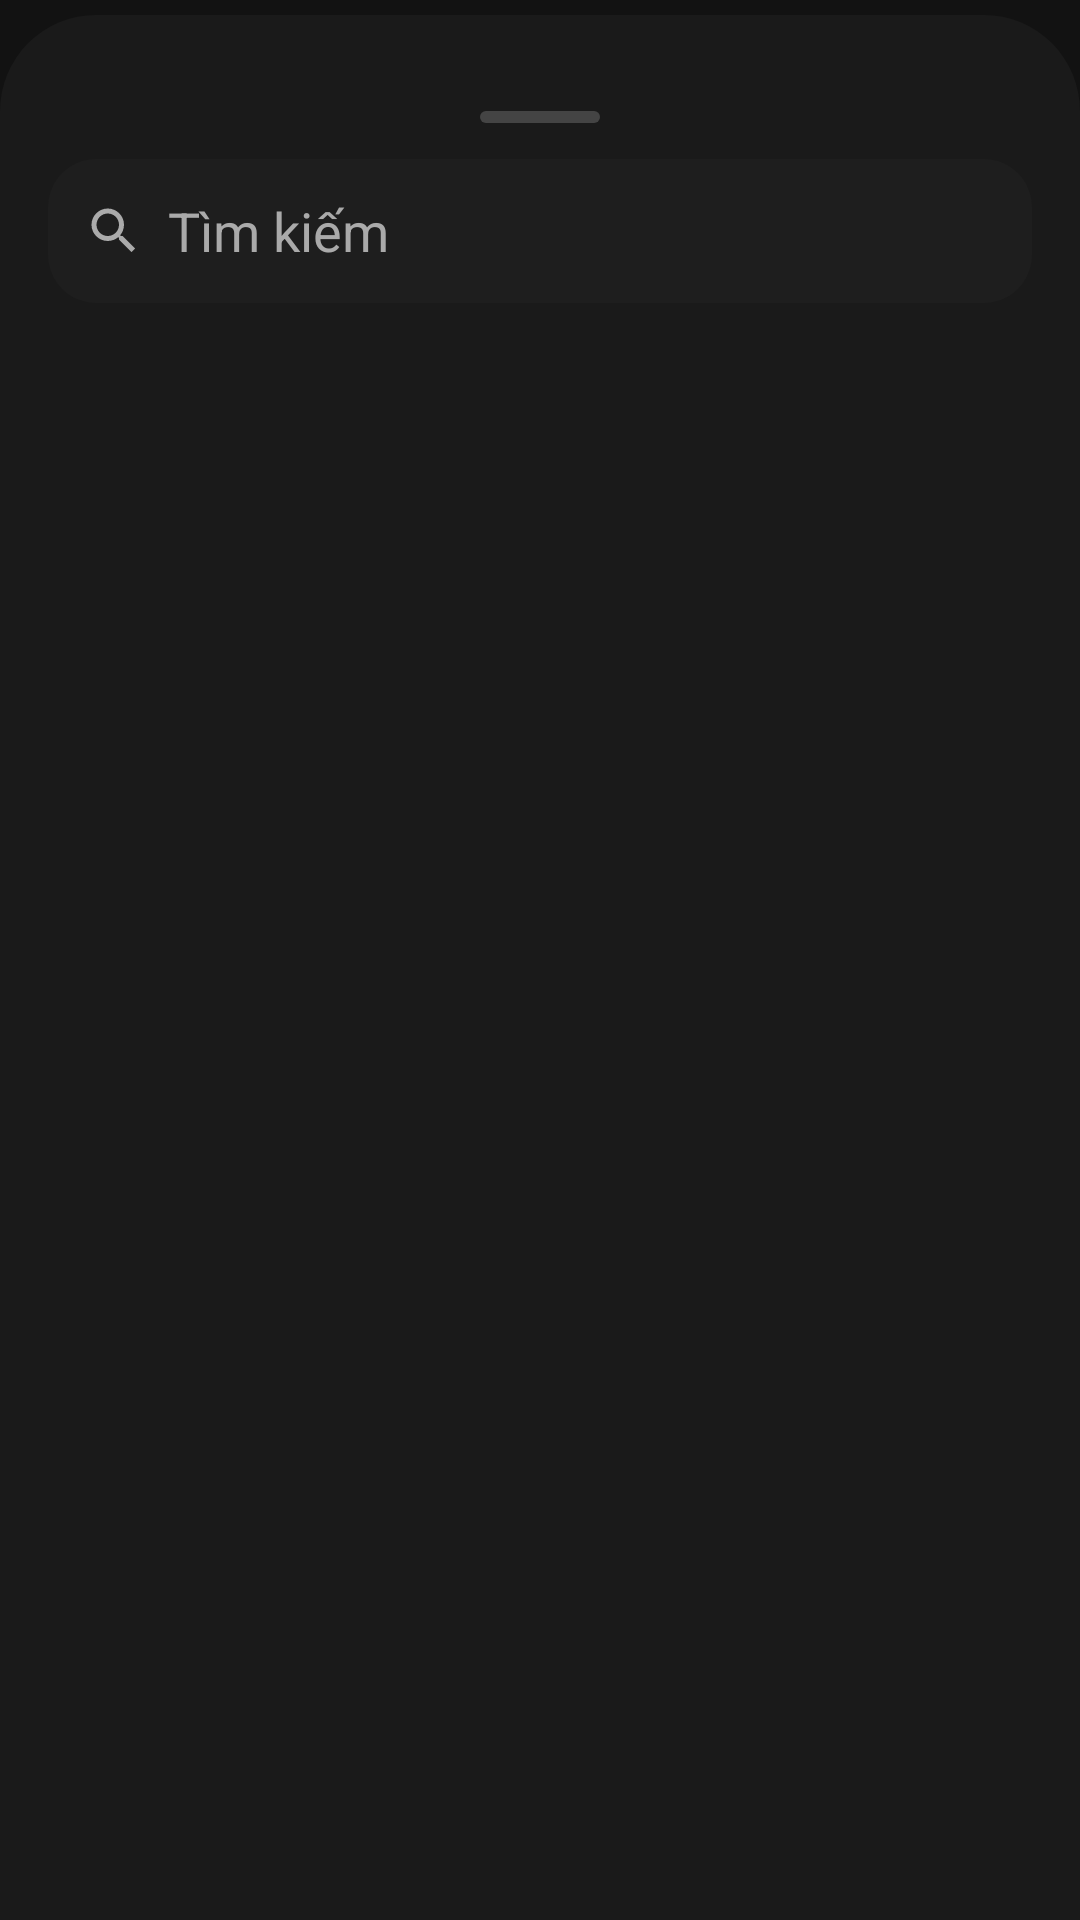

Screen size 1080px×1920px. Icon name, then its box in pixels as (x1, y1, x2, y2):
search: (91, 208, 135, 252)
